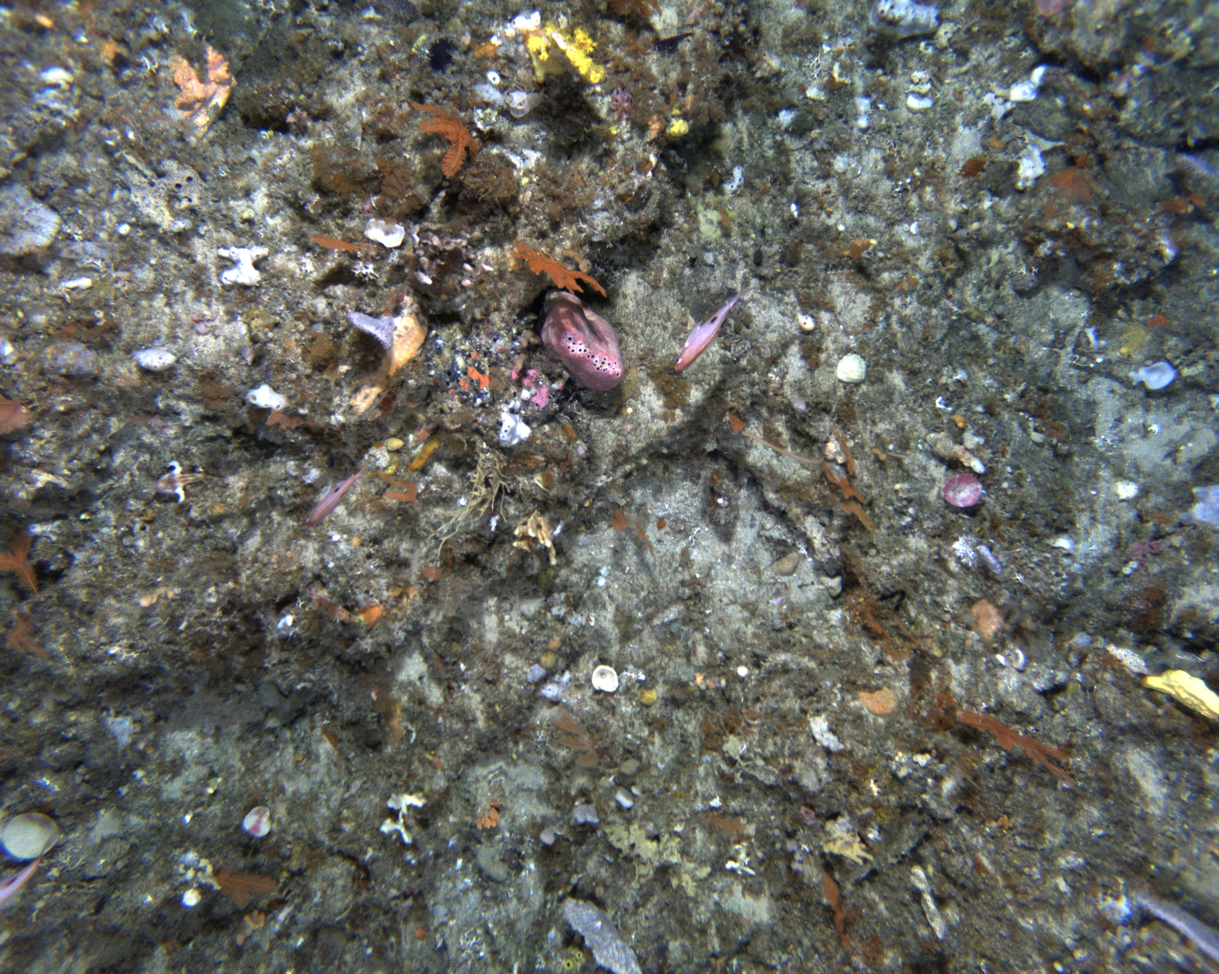Brachionichthyidae: (151, 458, 235, 506)
